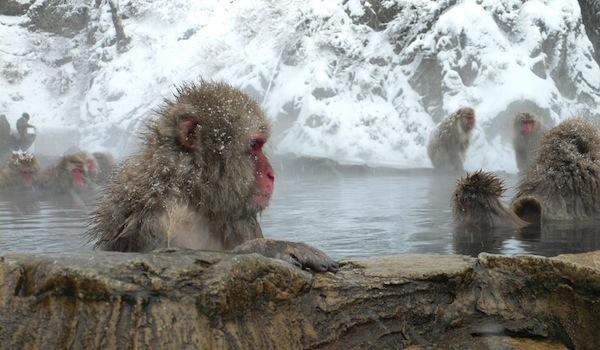monkey: (92, 82, 276, 254)
